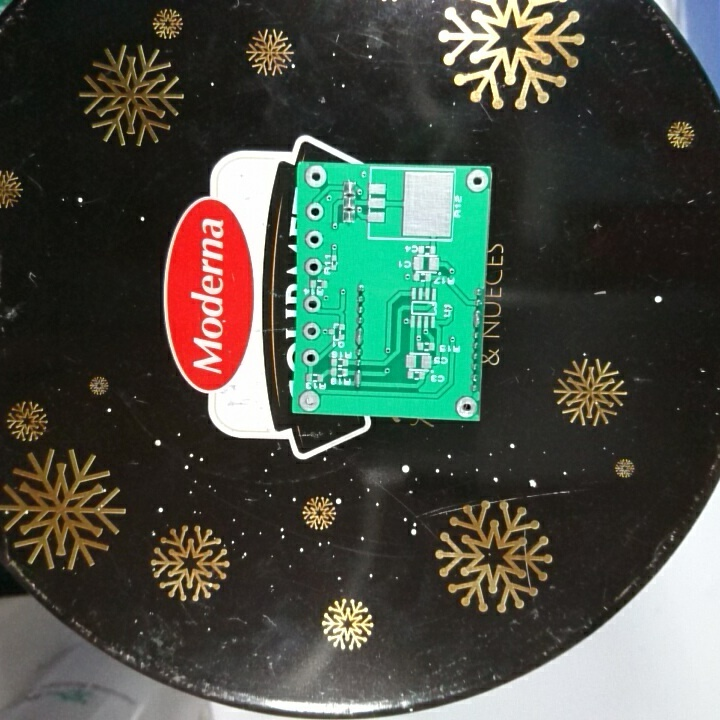F: (302, 163, 330, 191), (452, 392, 479, 419), (294, 387, 323, 412), (464, 167, 490, 194), (304, 200, 327, 223), (300, 293, 324, 315), (302, 227, 325, 249), (301, 319, 322, 343), (303, 256, 323, 278), (301, 346, 320, 369)
P: (351, 366, 365, 388), (353, 326, 367, 346), (471, 307, 483, 329)
